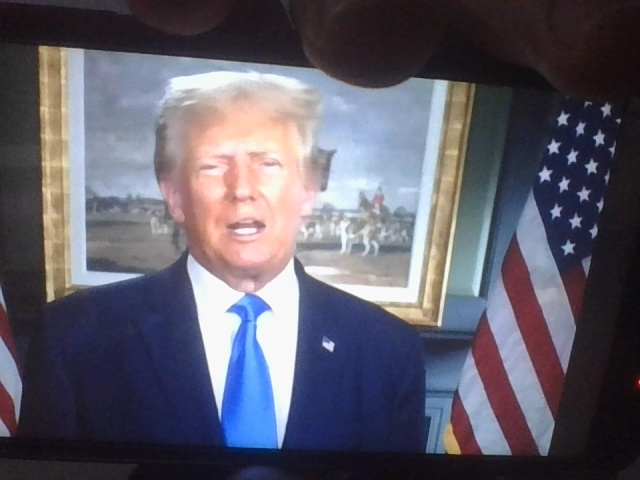fake: (170, 64, 323, 281)
